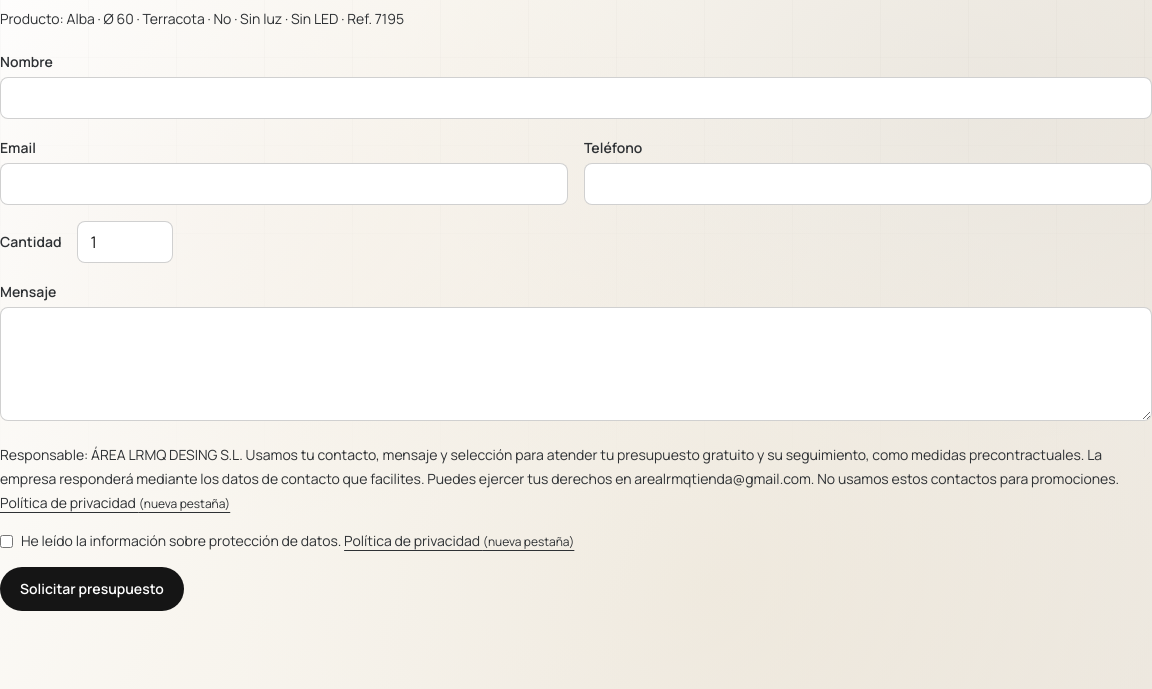
Test: QuoteRequestForm › blocks submission without contact or privacy consent
Type "Ana" into the field labelled "Nombre" at [576, 98], box [0, 77, 1151, 119]
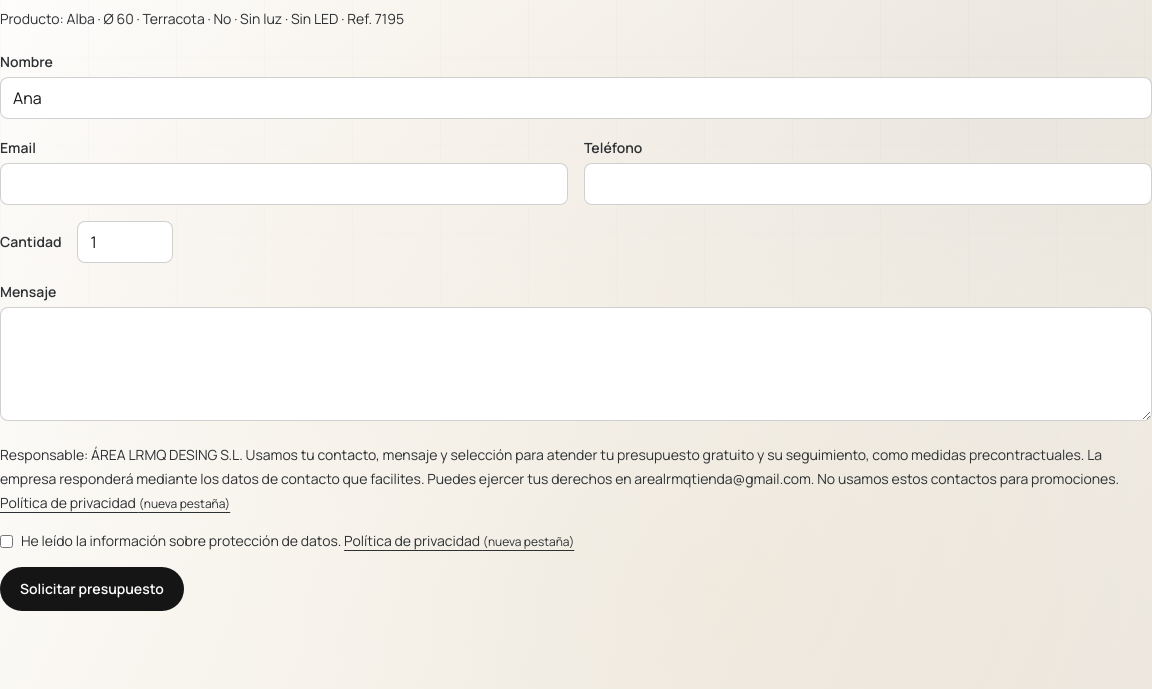
Click the button "Solicitar presupuesto" at [92, 589], box [0, 567, 184, 611]
(page scrolled)
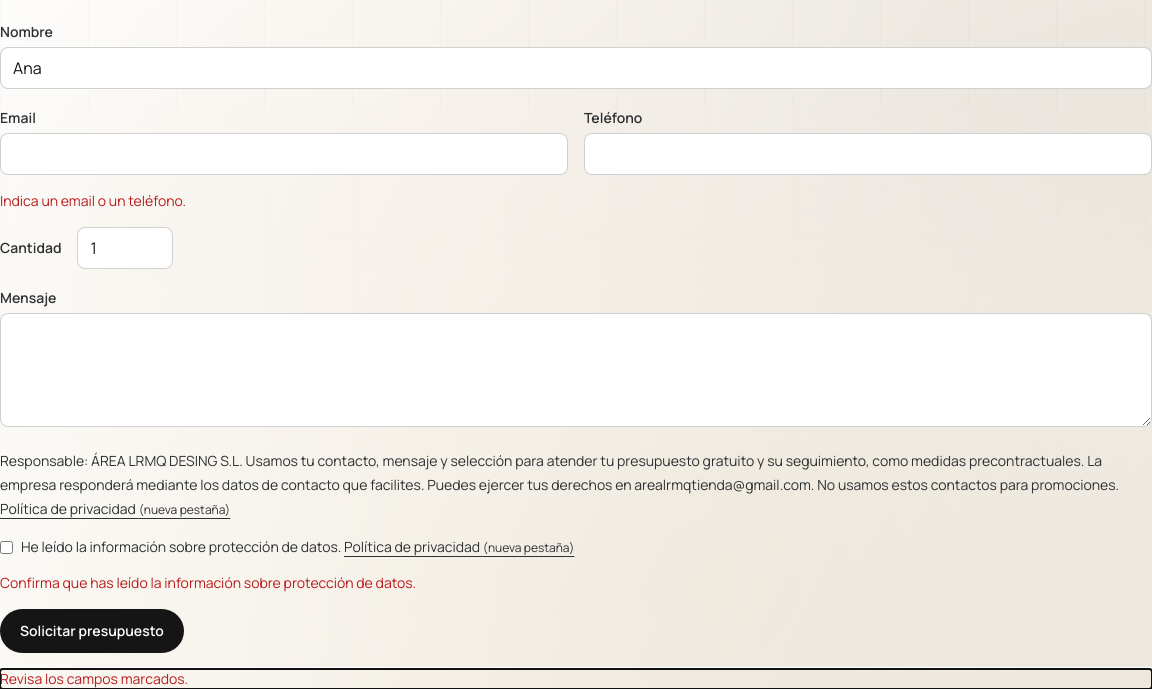
Expected: the text "Indica un email o un teléfono." is shown, [0, 191, 186, 210]
Expected: the text "Confirma que has leído la información sobre protección de datos." is shown, [0, 573, 416, 592]
